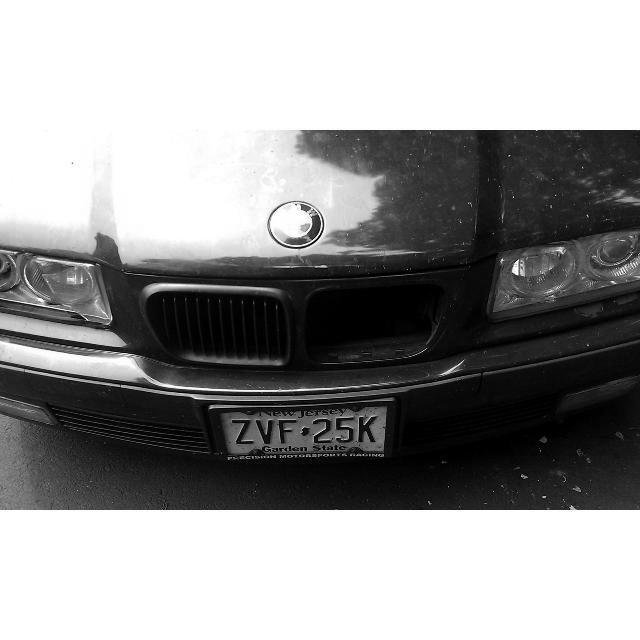bonnet-dent: (108, 130, 529, 258)
